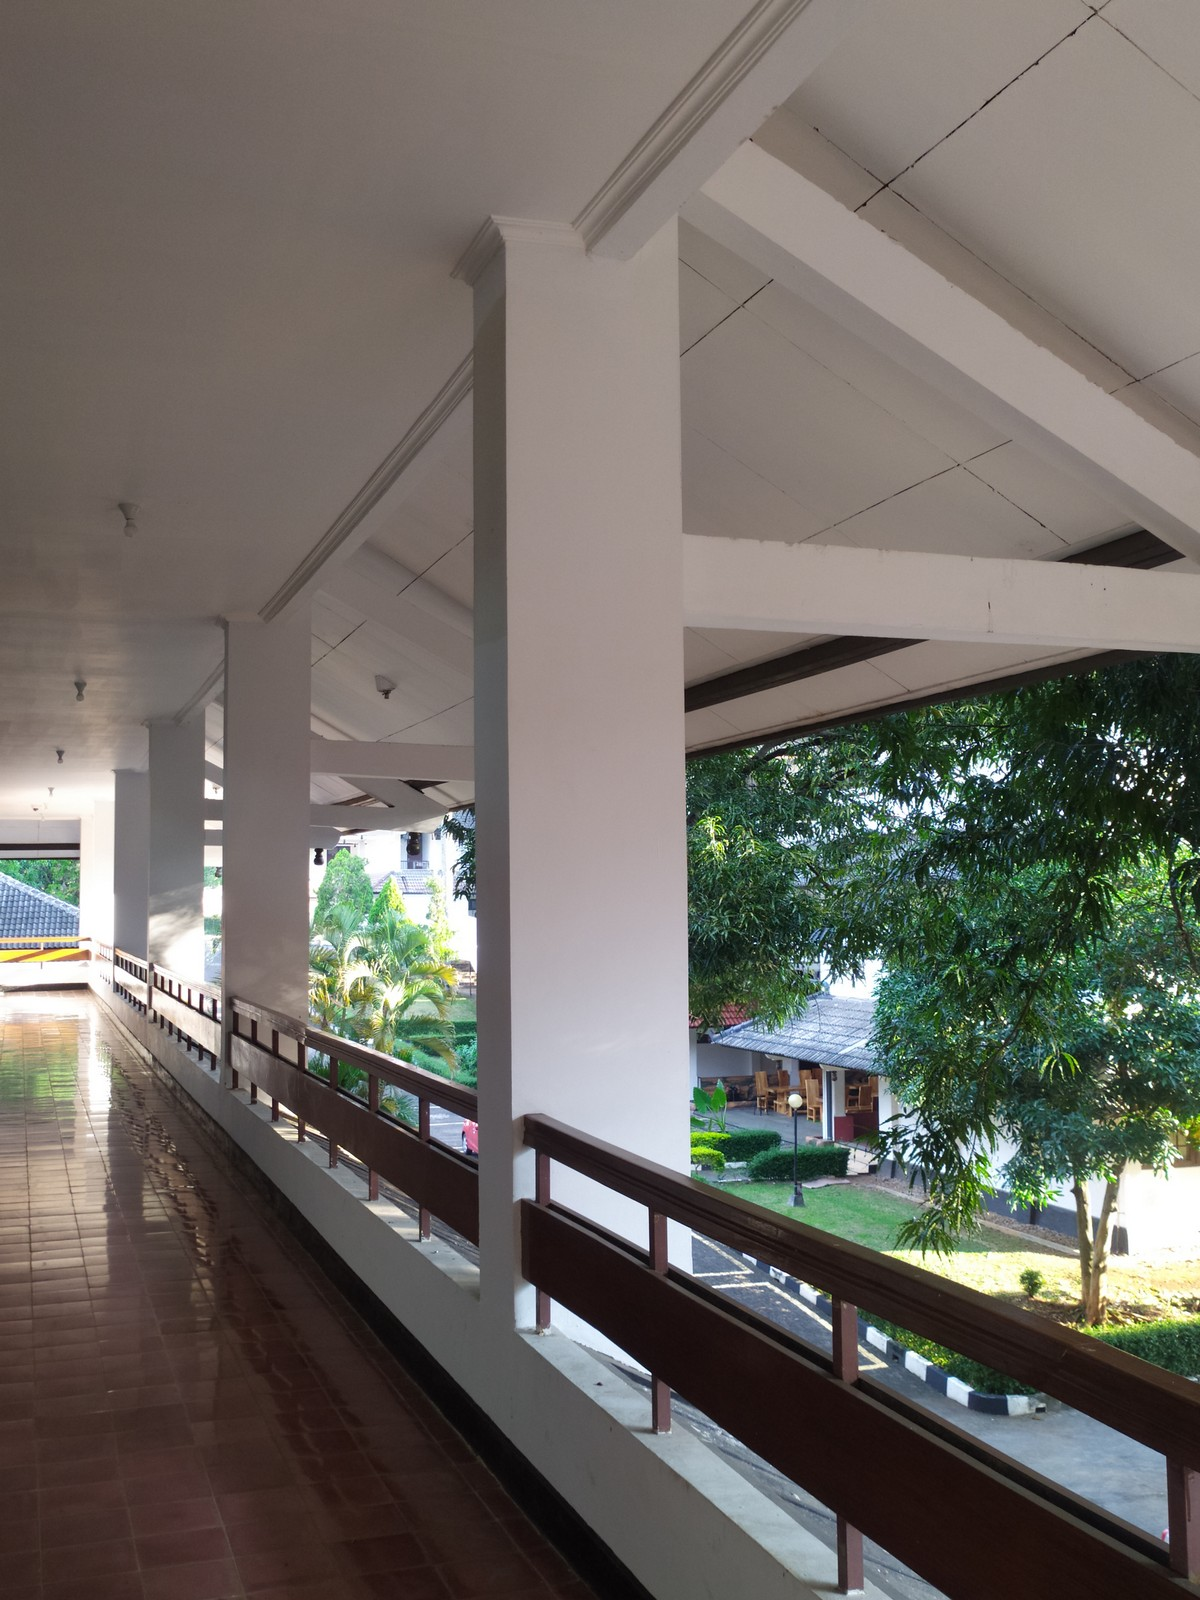concrete beam: (654, 522, 1189, 665), (297, 731, 475, 794)
concrete column: (454, 212, 717, 1348), (216, 598, 318, 1096)
